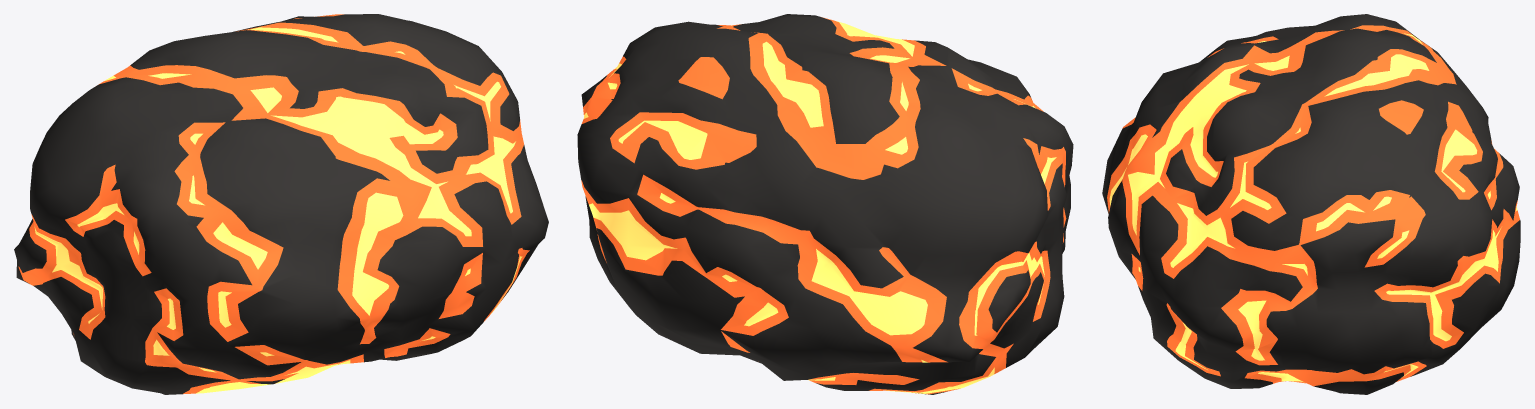
Rendered from bomb_1.glb.
3 renders of one model, left to right at view 1: azimuth 30°, elevation 25°; view 2: azimuth 150°, elevation 25°; view 3: azimuth 270°, elevation 25°, orthographic. The views are drawn at different scales.
Visible parts, largest first — view 1: bomb_1; view 2: bomb_1; view 3: bomb_1.
Boxes of the visible parts, <box> form: bomb_1: <box>14,14,548,394</box>; bomb_1: <box>577,14,1073,394</box>; bomb_1: <box>1102,14,1520,394</box>.
Size of the model in its own units: 1.19 by 0.8145 by 1.01.
